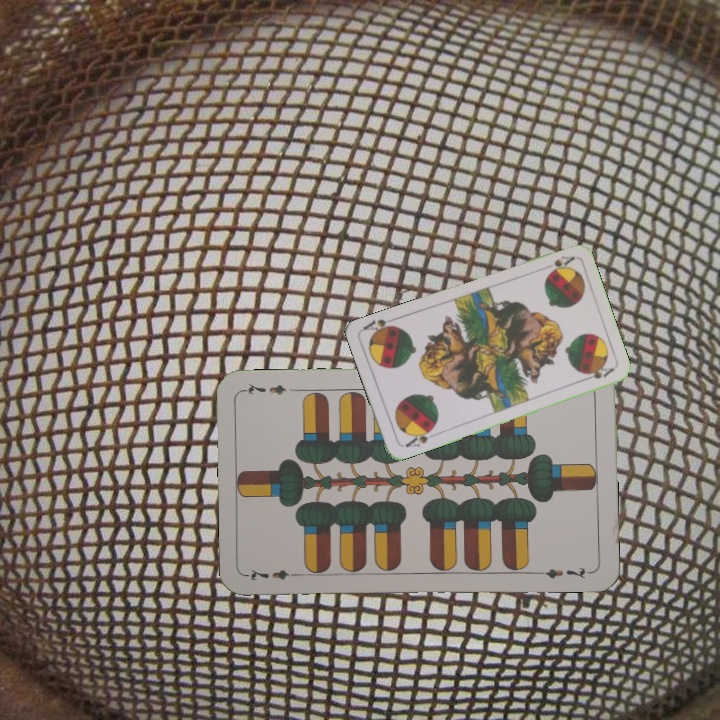E7: (244, 565, 303, 584)
SA: (401, 424, 436, 450), (543, 252, 577, 277)
